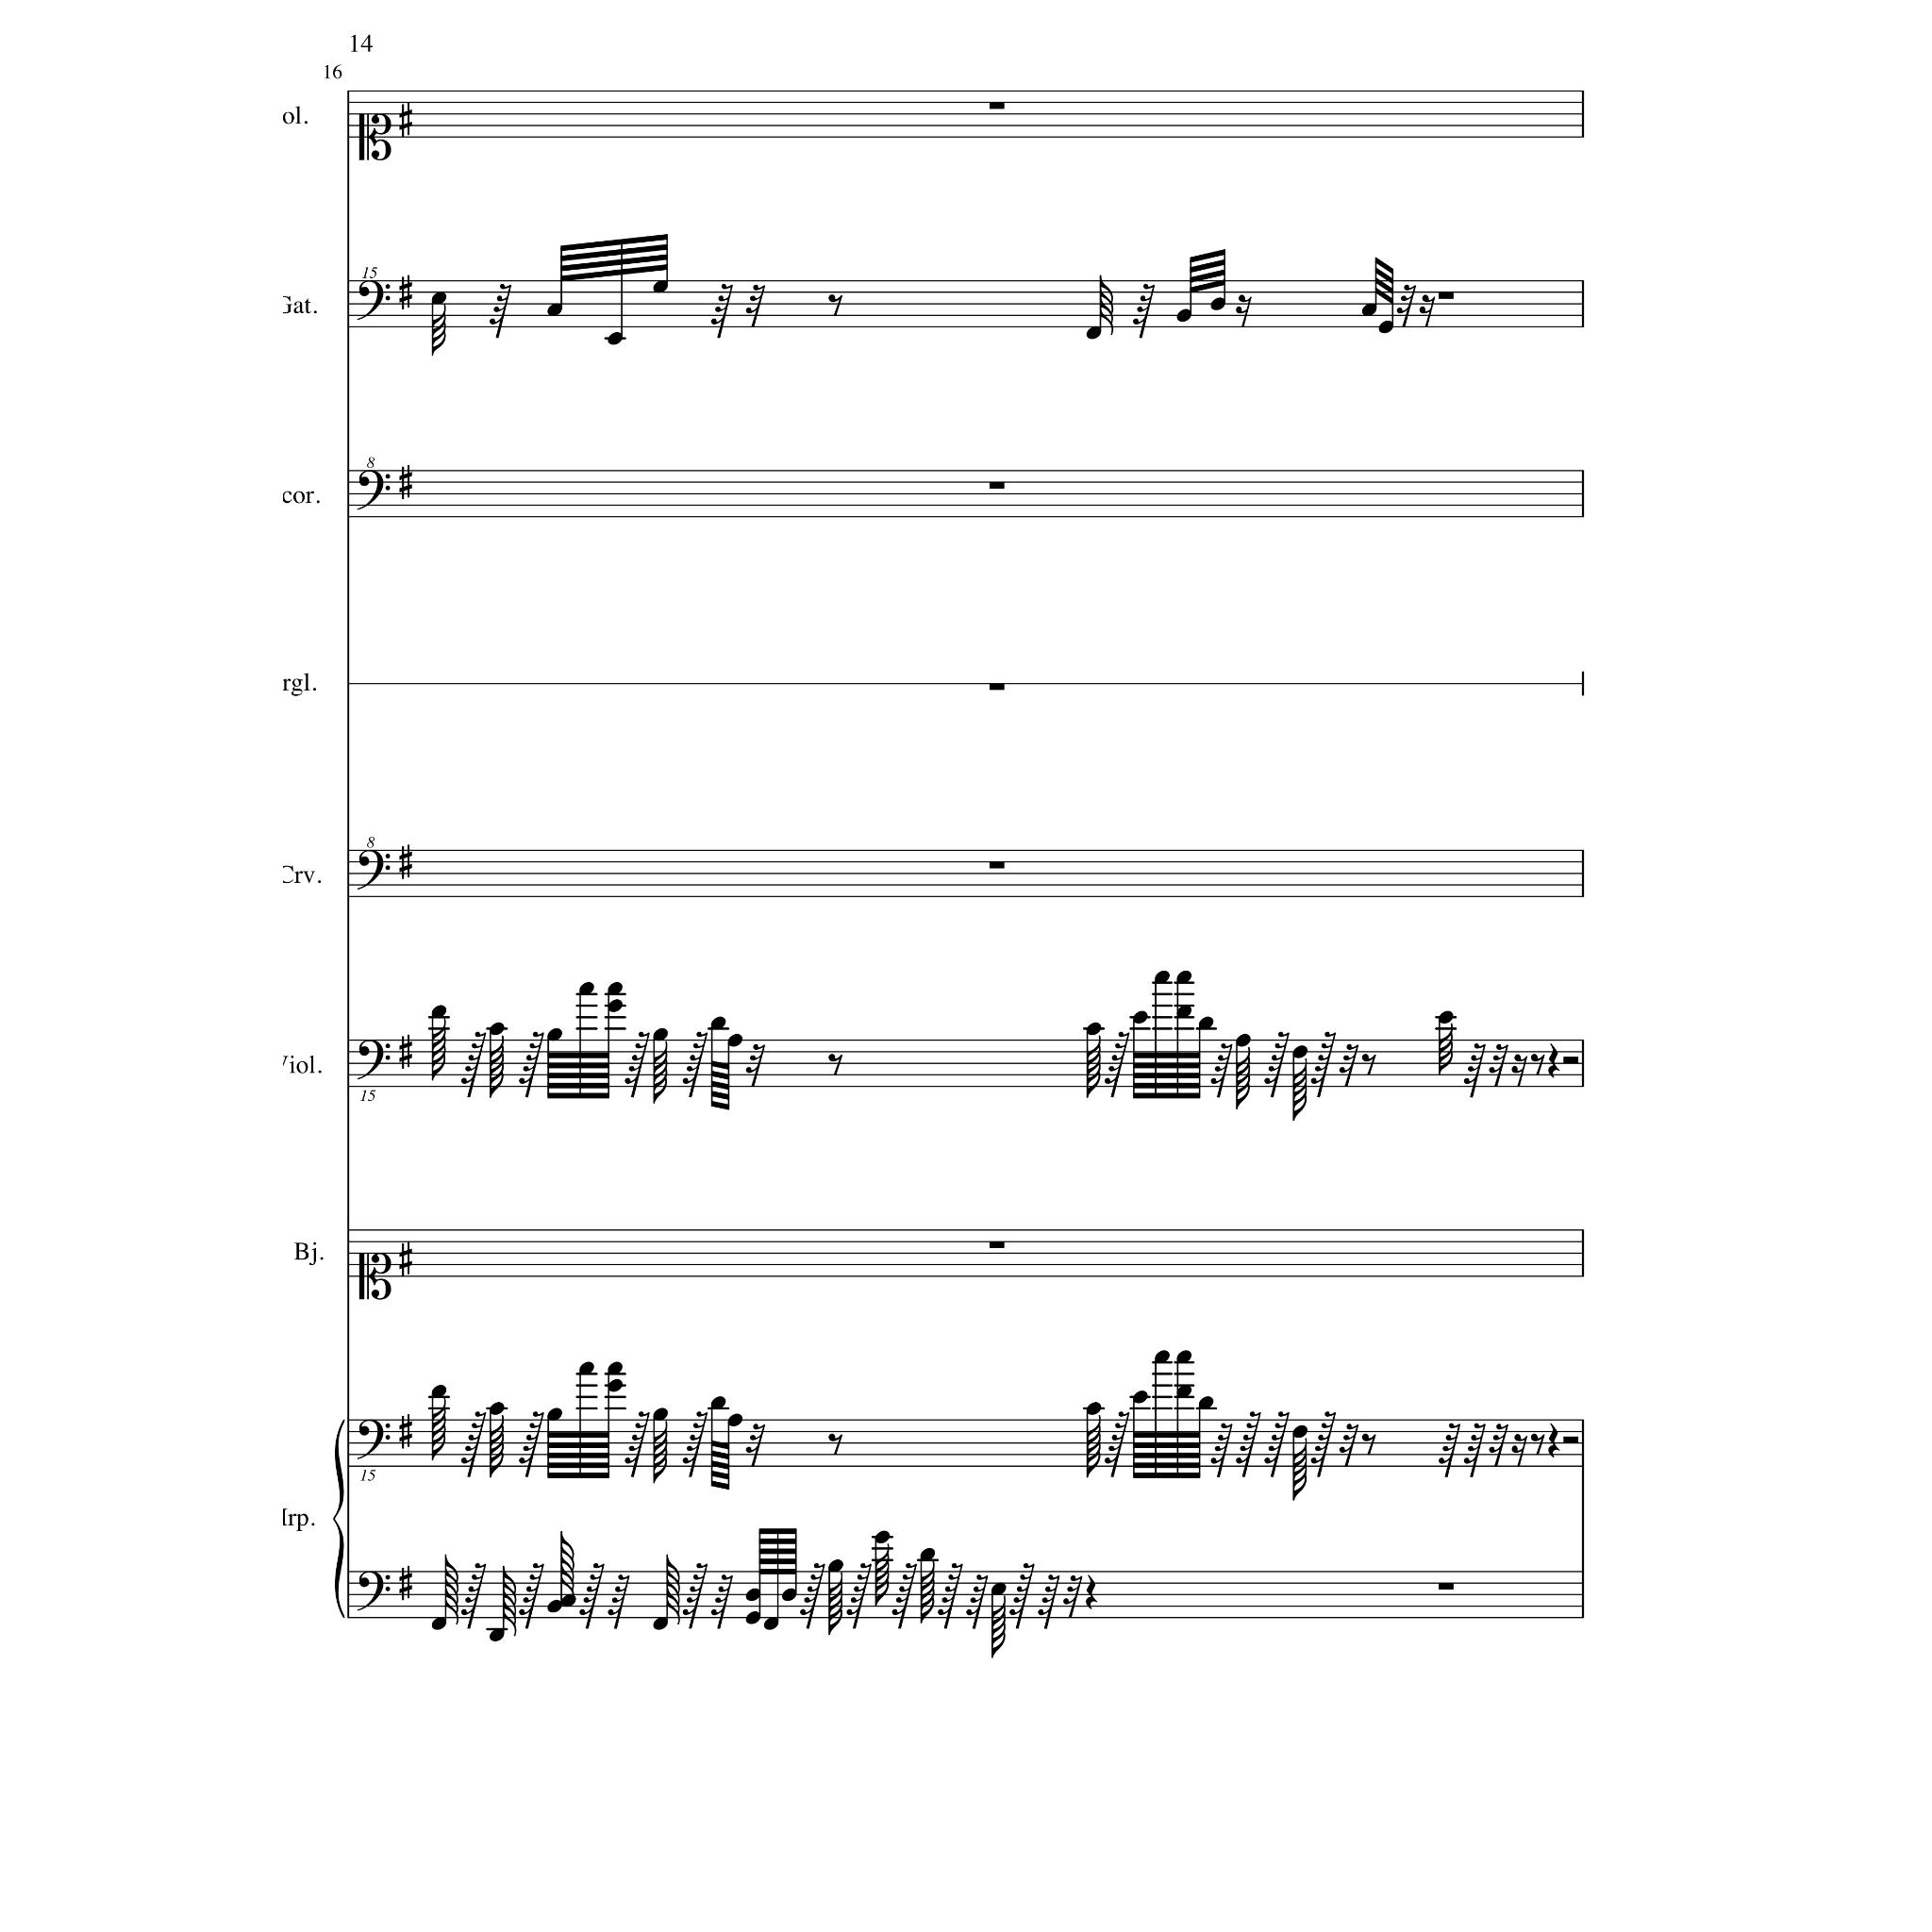brace: (332, 1419, 345, 1619)
fClef: (357, 470, 391, 511), (357, 849, 391, 891), (357, 1419, 391, 1460), (357, 1040, 391, 1081), (357, 281, 391, 321), (357, 1572, 391, 1611)
flag128thDown: (991, 1594, 1006, 1658), (828, 1572, 843, 1636), (1236, 1047, 1251, 1109), (874, 1543, 890, 1606), (1086, 1036, 1101, 1098), (1086, 1415, 1101, 1477), (1292, 1058, 1307, 1121), (1292, 1438, 1307, 1500), (489, 1036, 504, 1098), (489, 1415, 504, 1477), (653, 1041, 668, 1104), (653, 1421, 668, 1483), (921, 1560, 934, 1624), (432, 1017, 445, 1081), (432, 1398, 445, 1460)
flag128thUp: (502, 1566, 517, 1638), (560, 1532, 575, 1602), (445, 1555, 458, 1624), (667, 1555, 680, 1624)
flag64thDown: (1438, 1023, 1453, 1075), (432, 304, 445, 357)
flag64thUp: (1100, 275, 1113, 336)
noteheadBlack: (1175, 1349, 1192, 1364), (430, 291, 447, 306), (1155, 1349, 1170, 1364), (991, 1581, 1006, 1596), (1175, 309, 1192, 323), (1175, 1006, 1192, 1019), (1175, 971, 1192, 984), (1175, 1385, 1192, 1398), (874, 1531, 891, 1544), (1209, 298, 1226, 311), (919, 1548, 936, 1561), (1132, 1011, 1149, 1024), (1132, 1391, 1149, 1404), (1085, 326, 1102, 340), (1085, 1023, 1102, 1036), (1085, 1402, 1102, 1415), (1360, 304, 1377, 317), (1377, 321, 1394, 334), (1438, 1011, 1455, 1024), (430, 1006, 447, 1019), (430, 1385, 447, 1398), (430, 1617, 447, 1630), (726, 1034, 743, 1047), (726, 1414, 743, 1427), (762, 1617, 779, 1630), (709, 1396, 726, 1409), (709, 1017, 726, 1030), (1198, 1017, 1213, 1030), (1198, 1396, 1213, 1409), (1155, 971, 1170, 984), (1292, 1045, 1307, 1058), (1292, 1425, 1307, 1439), (1236, 1034, 1251, 1047), (489, 1023, 504, 1036), (489, 1402, 504, 1415), (489, 1628, 504, 1641), (579, 982, 594, 995), (579, 1361, 594, 1374), (608, 332, 623, 345), (608, 999, 623, 1012), (608, 982, 623, 995), (608, 1379, 623, 1392), (547, 304, 562, 317), (547, 1028, 562, 1041), (547, 1408, 562, 1422), (547, 1600, 562, 1613), (560, 1594, 575, 1607), (745, 1611, 760, 1624), (745, 1589, 760, 1602), (608, 1361, 623, 1374), (828, 1559, 843, 1573), (781, 1589, 796, 1602), (653, 280, 668, 293), (653, 1028, 668, 1041), (653, 1408, 668, 1422), (653, 1617, 668, 1630)
rest16th: (1235, 294, 1252, 328), (1419, 294, 1436, 328), (1511, 1055, 1528, 1087), (1511, 1434, 1528, 1466)
rest8th: (1530, 1054, 1545, 1076), (1530, 1433, 1545, 1456), (1361, 1054, 1376, 1076), (1361, 1433, 1376, 1456), (827, 1433, 842, 1456), (827, 294, 842, 317), (827, 1054, 842, 1076)
restHalf: (1562, 1057, 1579, 1064), (1562, 1436, 1579, 1443)
restQuarter: (1547, 1043, 1560, 1079), (1547, 1423, 1560, 1458), (1085, 1575, 1098, 1609)
restWhole: (1438, 292, 1455, 300), (1438, 1583, 1455, 1591), (989, 683, 1004, 691), (989, 862, 1004, 870), (989, 1241, 1004, 1249), (989, 482, 1004, 490), (989, 102, 1004, 109)
